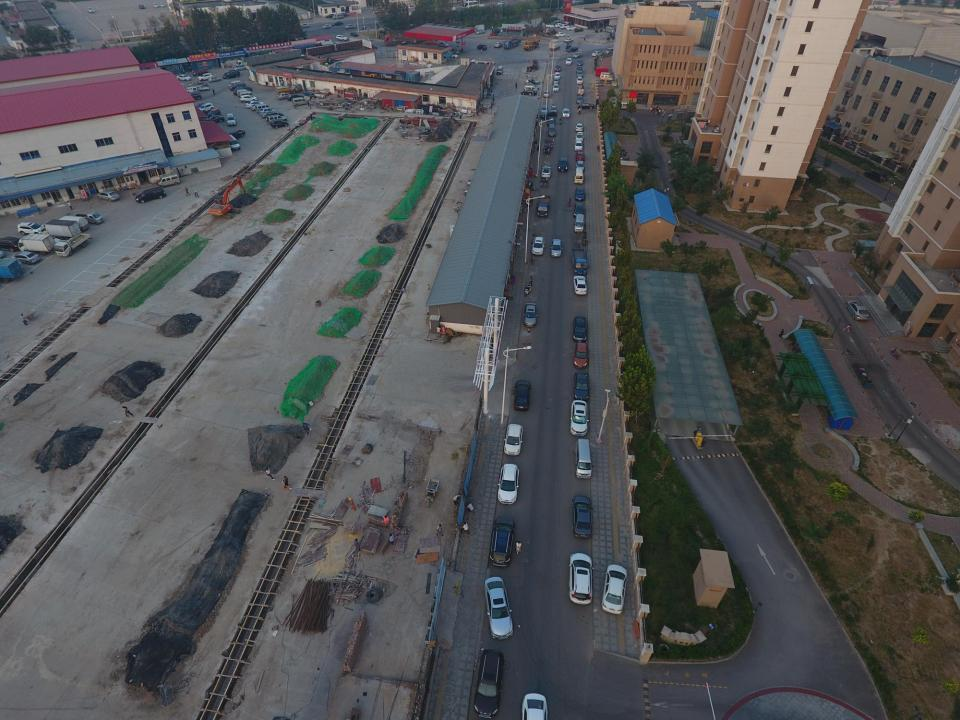bus: (461, 0, 478, 9)
car: (474, 648, 504, 718), (484, 576, 514, 640), (601, 564, 629, 615), (490, 516, 516, 567), (569, 553, 594, 604), (497, 462, 520, 504), (572, 495, 593, 538), (521, 692, 547, 720), (570, 400, 589, 436), (504, 424, 523, 456), (513, 380, 531, 411), (572, 370, 590, 401), (134, 186, 166, 203), (845, 300, 870, 321), (573, 342, 590, 369), (572, 315, 588, 343), (10, 251, 40, 265), (523, 302, 538, 328), (0, 236, 24, 252), (17, 222, 45, 235), (864, 170, 887, 182), (573, 276, 587, 295), (532, 236, 544, 256), (550, 239, 563, 257), (97, 191, 119, 201), (573, 202, 585, 219), (574, 186, 586, 202), (270, 119, 288, 129), (205, 115, 225, 124), (197, 102, 215, 112), (240, 94, 258, 103), (539, 110, 557, 119), (232, 86, 252, 94), (558, 157, 568, 172), (186, 92, 202, 101), (228, 83, 246, 91), (260, 110, 278, 118), (265, 111, 283, 119), (540, 166, 552, 178), (193, 102, 207, 112), (207, 108, 221, 118), (233, 64, 250, 72), (520, 88, 537, 96), (246, 101, 264, 108), (276, 92, 291, 100), (250, 103, 267, 110), (259, 108, 276, 115), (578, 102, 595, 109), (576, 160, 585, 173), (192, 69, 208, 76), (176, 74, 192, 81), (199, 74, 213, 82), (193, 85, 209, 92), (224, 72, 240, 79), (575, 151, 585, 162), (286, 94, 304, 100), (574, 140, 583, 152), (188, 80, 203, 87), (525, 83, 540, 90), (575, 132, 584, 143), (224, 70, 240, 76), (524, 78, 540, 84), (197, 73, 212, 79), (540, 105, 549, 115), (194, 82, 208, 88), (207, 76, 221, 82), (575, 123, 584, 132), (562, 108, 570, 118), (576, 95, 584, 105), (364, 44, 377, 50), (336, 35, 348, 41), (446, 52, 458, 58), (438, 41, 450, 47), (566, 46, 578, 52), (592, 51, 604, 57), (547, 117, 555, 126), (362, 36, 373, 42), (476, 44, 487, 50), (542, 28, 553, 34), (542, 90, 550, 98), (552, 84, 560, 92), (300, 23, 310, 29), (322, 23, 332, 29), (344, 24, 356, 29), (331, 21, 343, 26), (475, 29, 485, 35), (544, 22, 554, 28), (560, 24, 570, 30), (572, 52, 582, 58), (565, 58, 573, 65), (554, 64, 562, 71), (554, 72, 561, 80), (576, 66, 583, 74), (550, 106, 558, 113), (576, 77, 584, 84), (565, 25, 576, 30), (494, 42, 503, 48), (338, 12, 348, 17), (555, 32, 565, 37), (87, 7, 95, 13), (527, 24, 535, 30), (554, 22, 562, 28), (553, 78, 559, 86), (577, 59, 583, 66), (577, 71, 583, 78), (350, 32, 358, 37), (325, 14, 335, 18), (497, 1, 505, 6), (541, 27, 549, 32), (564, 38, 573, 42), (537, 27, 545, 31), (139, 4, 145, 9), (153, 3, 159, 8), (159, 2, 165, 7)
truck: (54, 232, 92, 257), (39, 219, 81, 240), (18, 234, 57, 256), (0, 258, 24, 283), (384, 34, 432, 46), (572, 247, 590, 275), (73, 211, 104, 225), (536, 194, 550, 217), (503, 38, 522, 49), (227, 130, 245, 140), (548, 39, 562, 51), (236, 60, 253, 66), (474, 24, 484, 32), (578, 85, 584, 96)
van: (574, 438, 593, 479), (58, 215, 90, 231), (157, 172, 180, 188), (226, 134, 240, 151), (574, 214, 584, 233), (291, 96, 309, 106), (267, 114, 287, 123), (255, 103, 272, 113), (225, 113, 237, 127), (574, 168, 584, 184), (240, 91, 256, 100), (184, 86, 198, 95), (599, 71, 613, 80), (619, 101, 632, 110), (548, 124, 556, 138), (228, 80, 241, 88), (236, 89, 249, 97), (600, 74, 613, 82), (524, 85, 537, 92), (605, 47, 616, 55), (496, 66, 504, 76), (606, 26, 616, 34), (332, 13, 344, 19), (448, 48, 460, 54)
